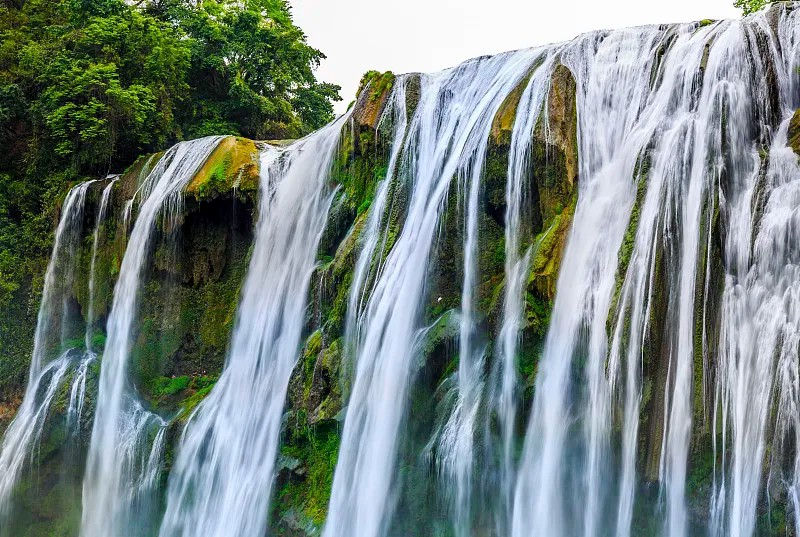Huangguoshu: (1, 10, 800, 537)
